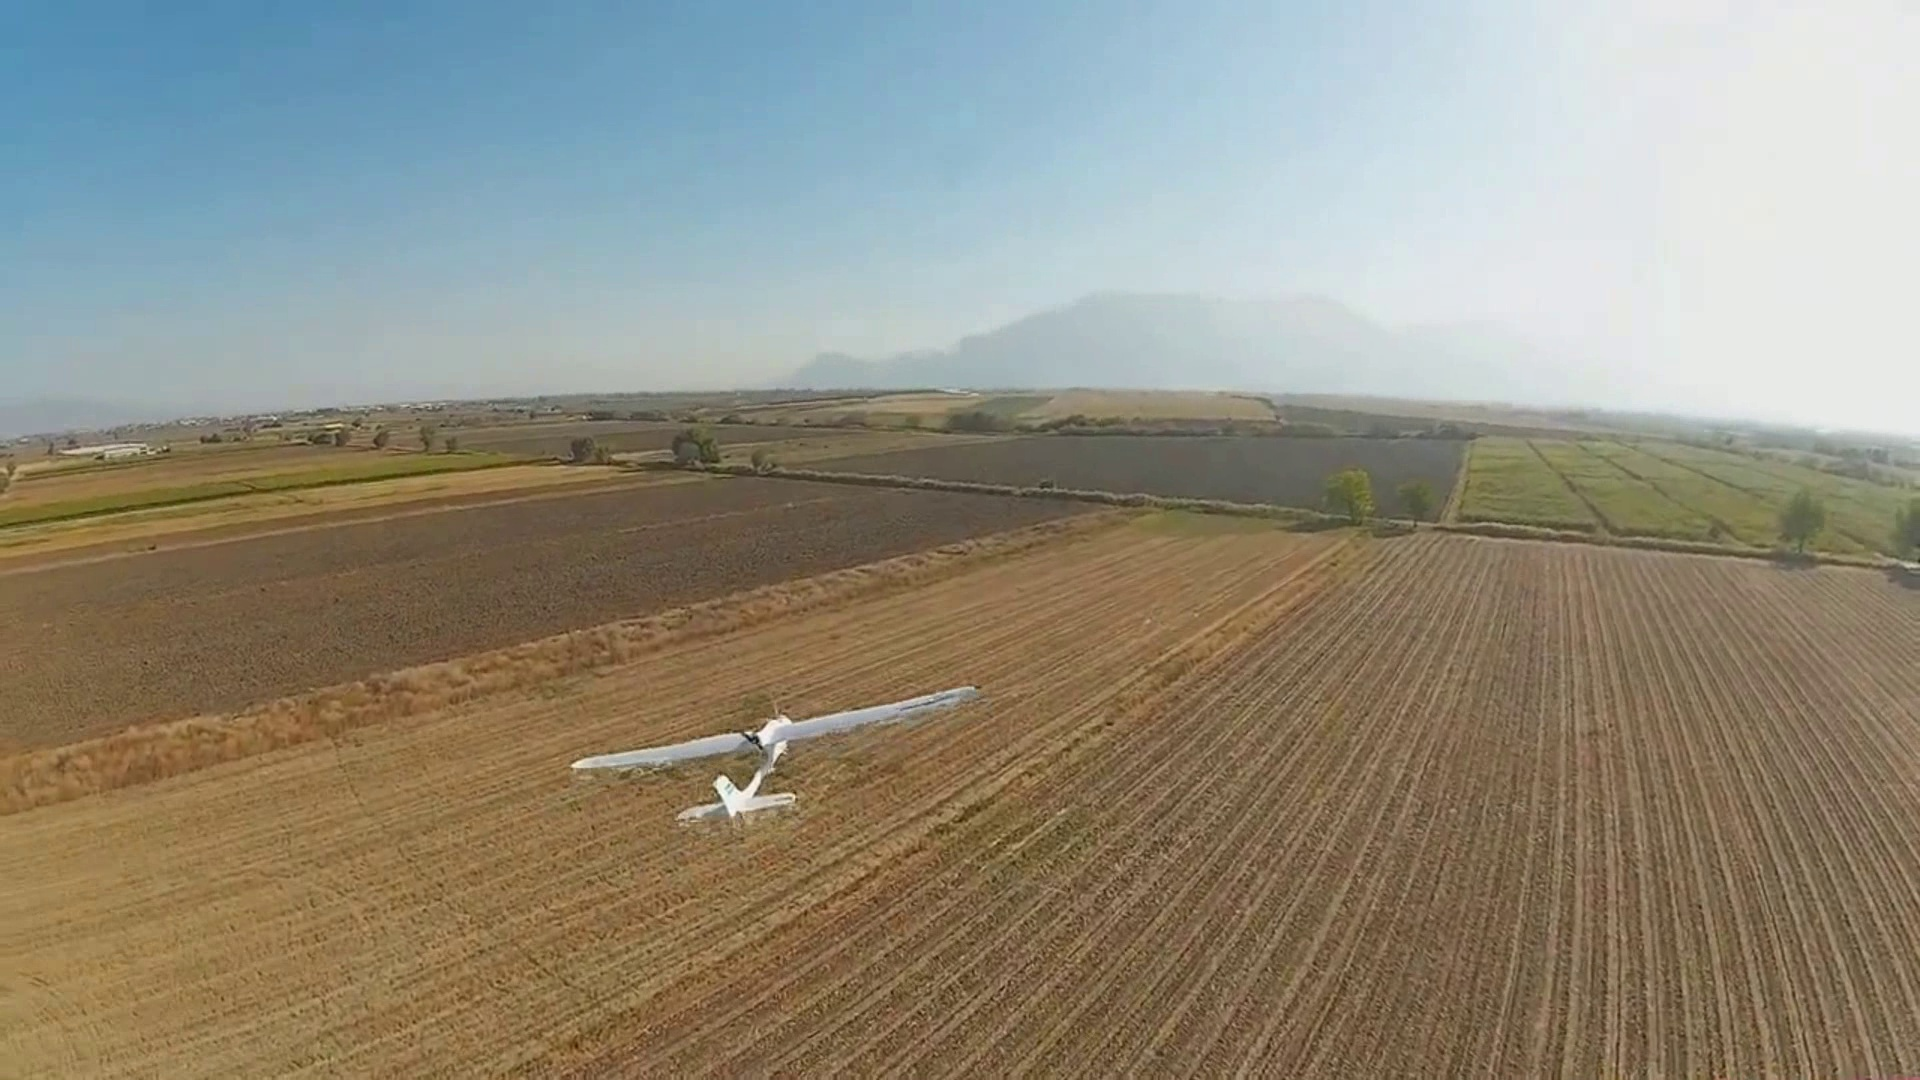airplane: (571, 687, 980, 819)
